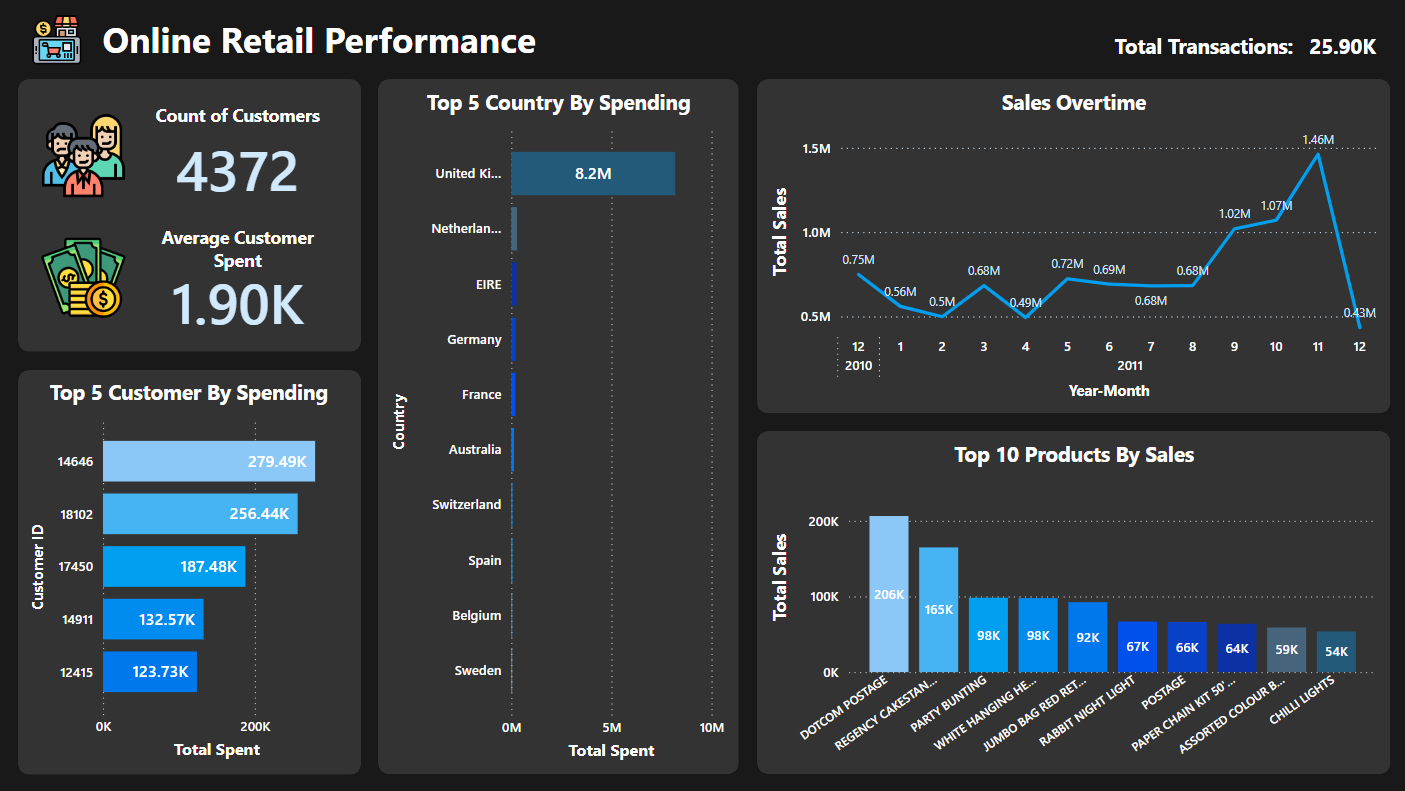

The page's visual inventory and layout, read from the dashboard file:
{"tool":"powerbi","page":{"name":"Page 1","canvas":[1280,720],"ordinal":0},"visuals":[{"type":"shape","box":[16,72,312,248],"z":0},{"type":"shape","box":[16,336,312,368],"z":1000},{"type":"card","title":"Count of Customers","fields":{"Values":["CountNonNull(customer_demographics.customerid)"]},"box":[120,93.6,192,96],"z":2000},{"type":"card","title":"Average Customer Spent","fields":{"Values":["Avg(customer_demographics.total_spent)"]},"box":[120,204.5,192,96],"z":3000},{"type":"image","box":[32,93.6,88,96],"z":4000},{"type":"image","box":[32,204.5,88,96],"z":5000},{"type":"barChart","title":"Top 5 Customer By Spending","fields":{"Y":["Sum(customer_demographics.total_spent)"],"Category":["customer_demographics.customerid"],"Series":["customer_demographics.customerid"]},"box":[24,344,296,352],"z":6000},{"type":"shape","box":[344,72,328,632],"z":7000},{"type":"shape","box":[688,72,576,304],"z":8000},{"type":"shape","box":[688,392,576,312],"z":9000},{"type":"barChart","title":"Top 5 Country By Spending","fields":{"Category":["country_sale.country"],"Series":["country_sale.country_sale"],"Y":["Sum(country_sale.country_sale)"]},"box":[352,80,312,616],"z":10000},{"type":"lineChart","title":"Sales Overtime","fields":{"Y":["Sum(overtime_sale.total_sale)"],"Category":["overtime_sale.year","overtime_sale.month"]},"box":[696,80,560,288],"z":11000},{"type":"columnChart","title":"Top 10 Products By Sales","fields":{"Category":["product_sale.description"],"Y":["Sum(product_sale.product_sale)"],"Series":["product_sale.description"]},"box":[696,400,560,296],"z":12000},{"type":"textbox","box":[88,8,424,56],"z":13000},{"type":"image","box":[24,8,56,56],"z":14000},{"type":"card","fields":{"Values":["Count(Online Retail.InvoiceNo)"]},"box":[1176,24,88,40],"z":16000},{"type":"textbox","box":[1008,24,192,40],"z":17000}]}

Visuals, with their boxes in screenshot pixels (x1, y1, x2, y2), scaled from the page's 1280x720 canvas onto the 1405x791 screenshot:
shape: locate(18, 79, 360, 352)
shape: locate(18, 369, 360, 773)
"Count of Customers" card: locate(132, 103, 342, 208)
"Average Customer Spent" card: locate(132, 225, 342, 330)
image: locate(35, 103, 132, 208)
image: locate(35, 225, 132, 330)
"Top 5 Customer By Spending" barChart: locate(26, 378, 351, 765)
shape: locate(378, 79, 738, 773)
shape: locate(755, 79, 1387, 413)
shape: locate(755, 431, 1387, 773)
"Top 5 Country By Spending" barChart: locate(386, 88, 729, 765)
"Sales Overtime" lineChart: locate(764, 88, 1379, 404)
"Top 10 Products By Sales" columnChart: locate(764, 439, 1379, 765)
textbox: locate(97, 9, 562, 70)
image: locate(26, 9, 88, 70)
card - Count(Online Retail.InvoiceNo): locate(1291, 26, 1387, 70)
textbox: locate(1106, 26, 1317, 70)
